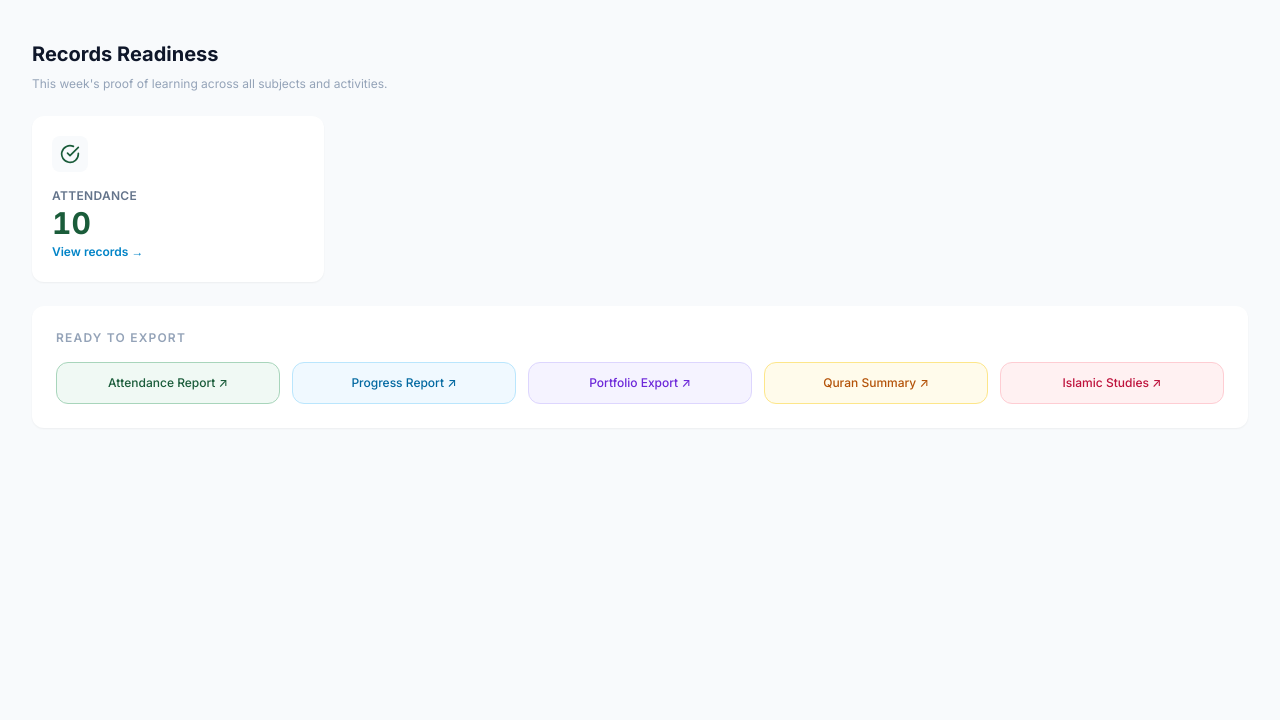
Test case: RecordsProof — dashboard exports › loads report data and shows a print-ready preview
What coordinates should you click on to do the following:
click the button "Attendance Report ↗"
I would click on:
 (168, 383)
Its box is [56, 362, 280, 404].
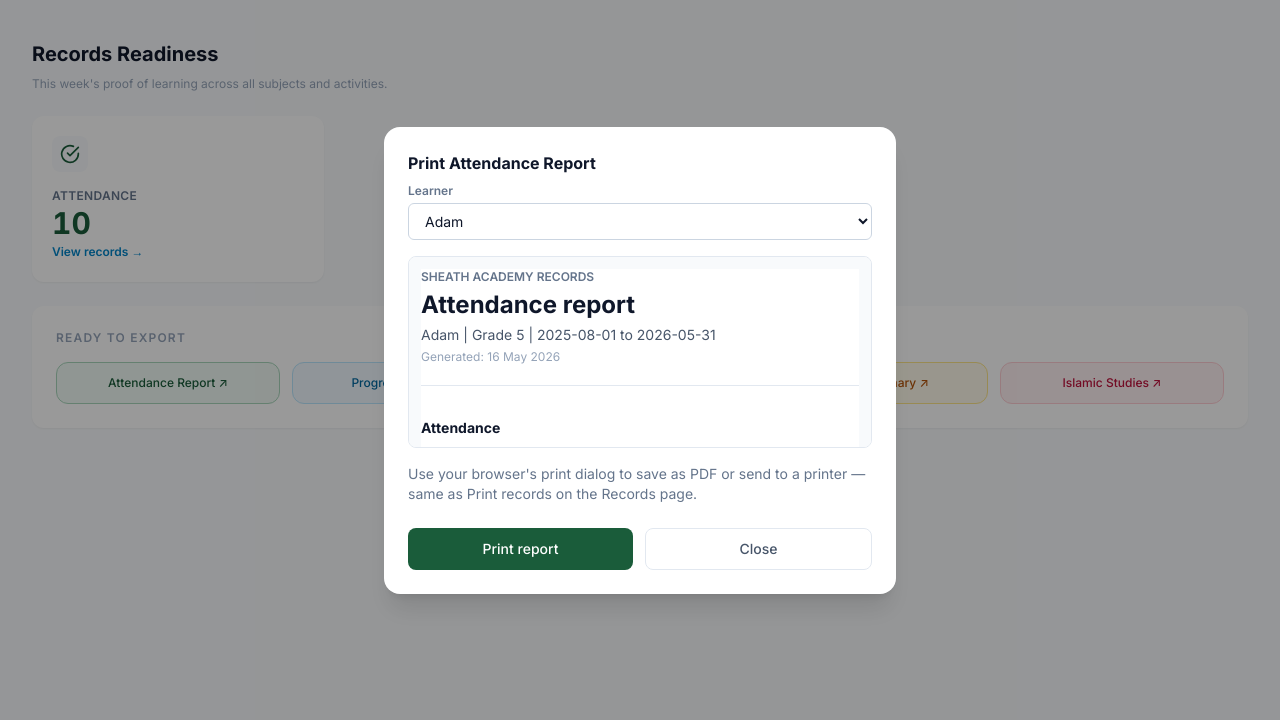
Check: the heading "Print Attendance Report" is shown, box [408, 152, 596, 172]
Check: the button "Print report" is shown, box [408, 528, 633, 570]
